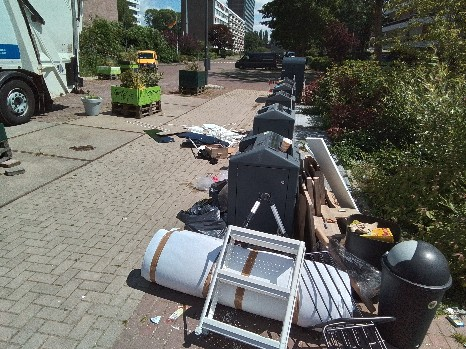Container: (226, 145, 297, 218), (260, 101, 297, 146), (271, 84, 299, 112), (279, 70, 303, 98)
Plastic: (383, 240, 443, 346), (432, 241, 443, 257)
Rest: (158, 232, 353, 326), (304, 137, 354, 254), (342, 222, 406, 269), (341, 283, 383, 347), (188, 200, 231, 235), (199, 131, 230, 156)
